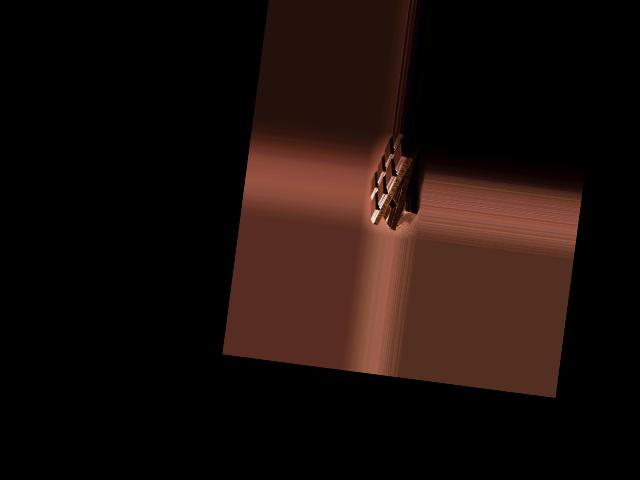chocolate: (366, 133, 420, 231)
